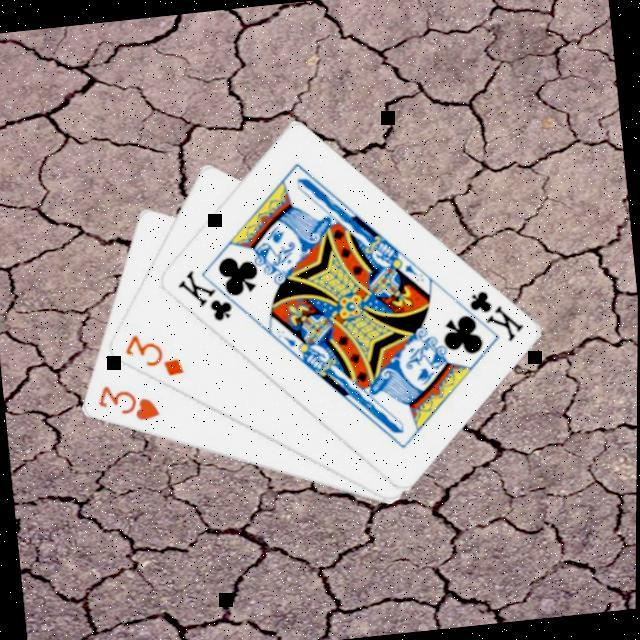3D: (121, 324, 190, 382)
3H: (94, 374, 164, 426)
KC: (452, 280, 530, 348), (173, 258, 250, 326)
